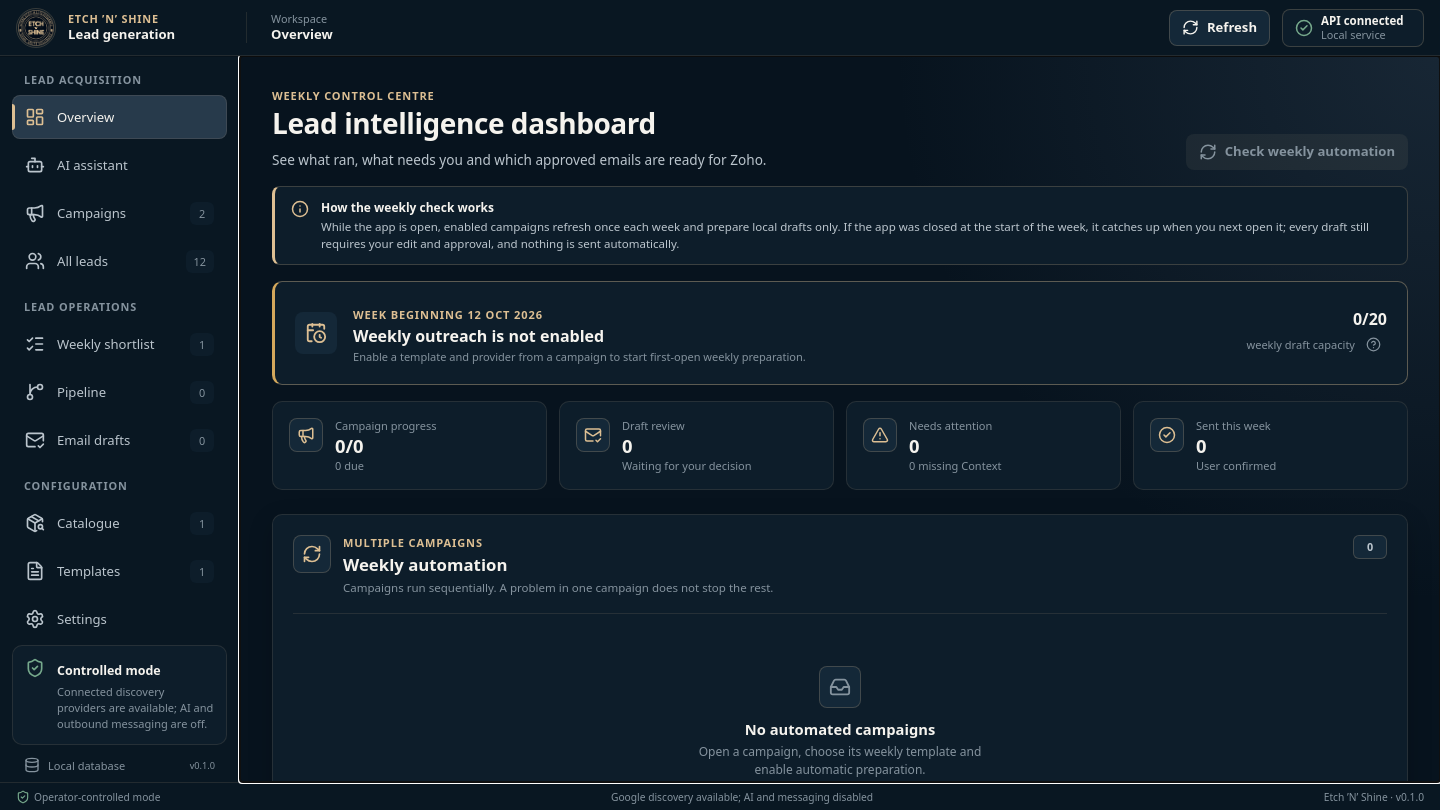
Test case: local operating workbench › filters the lead register by campaign and resets its page
Expected: the text "API connected" is shown, [1321,14,1404,28]
Click the link "All leads 12": (83, 261) [25,250,214,272]
(page scrolled)
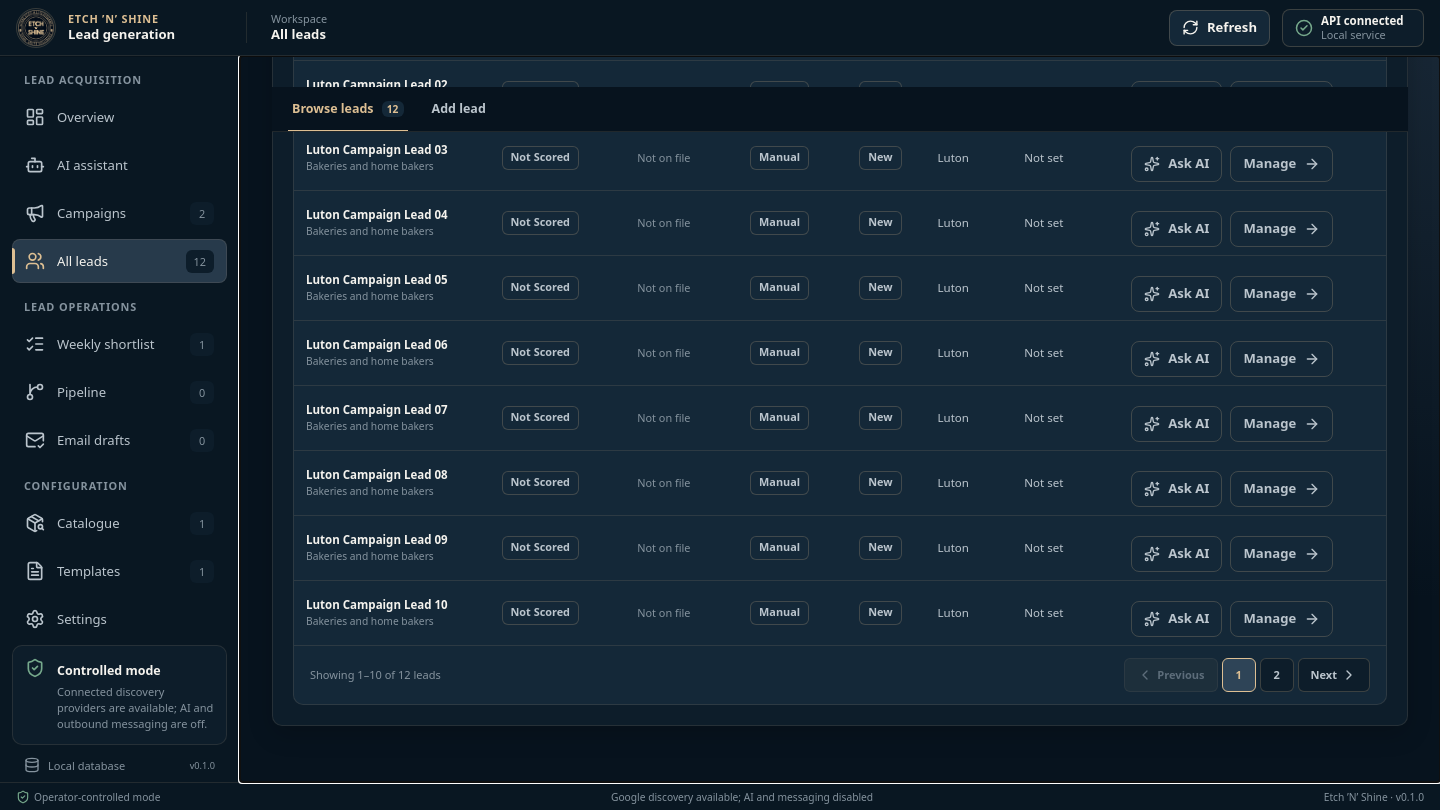
Click the button with aria-label "Next leads page": (1334, 675) [1298,658,1370,692]
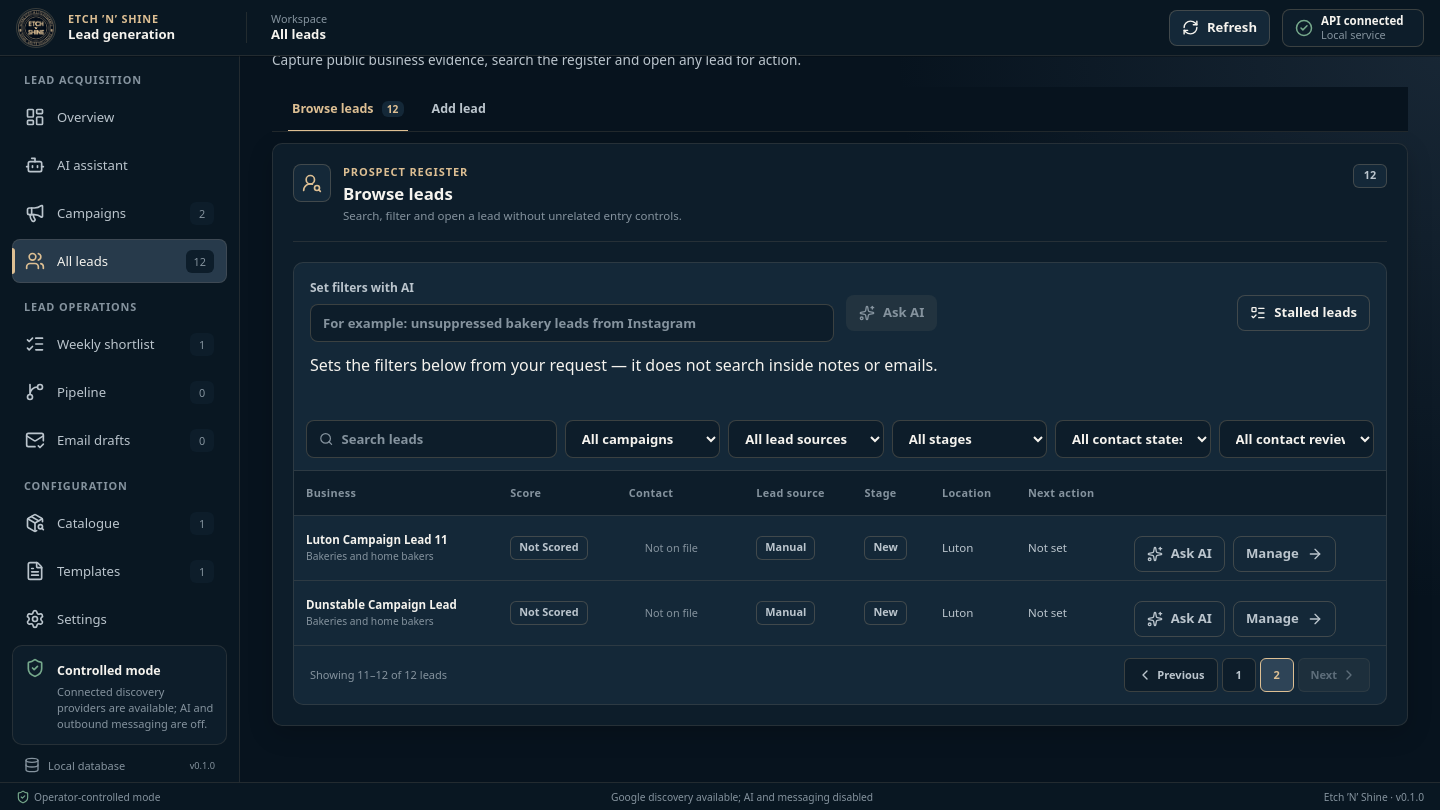
Result: the text "Luton Campaign Lead 11" is shown at [306,532,448,547]
Select "Dunstable Bakery Partnerships" in the 1st dropdown named "Filter by campaign": (642, 439) [565,420,720,458]
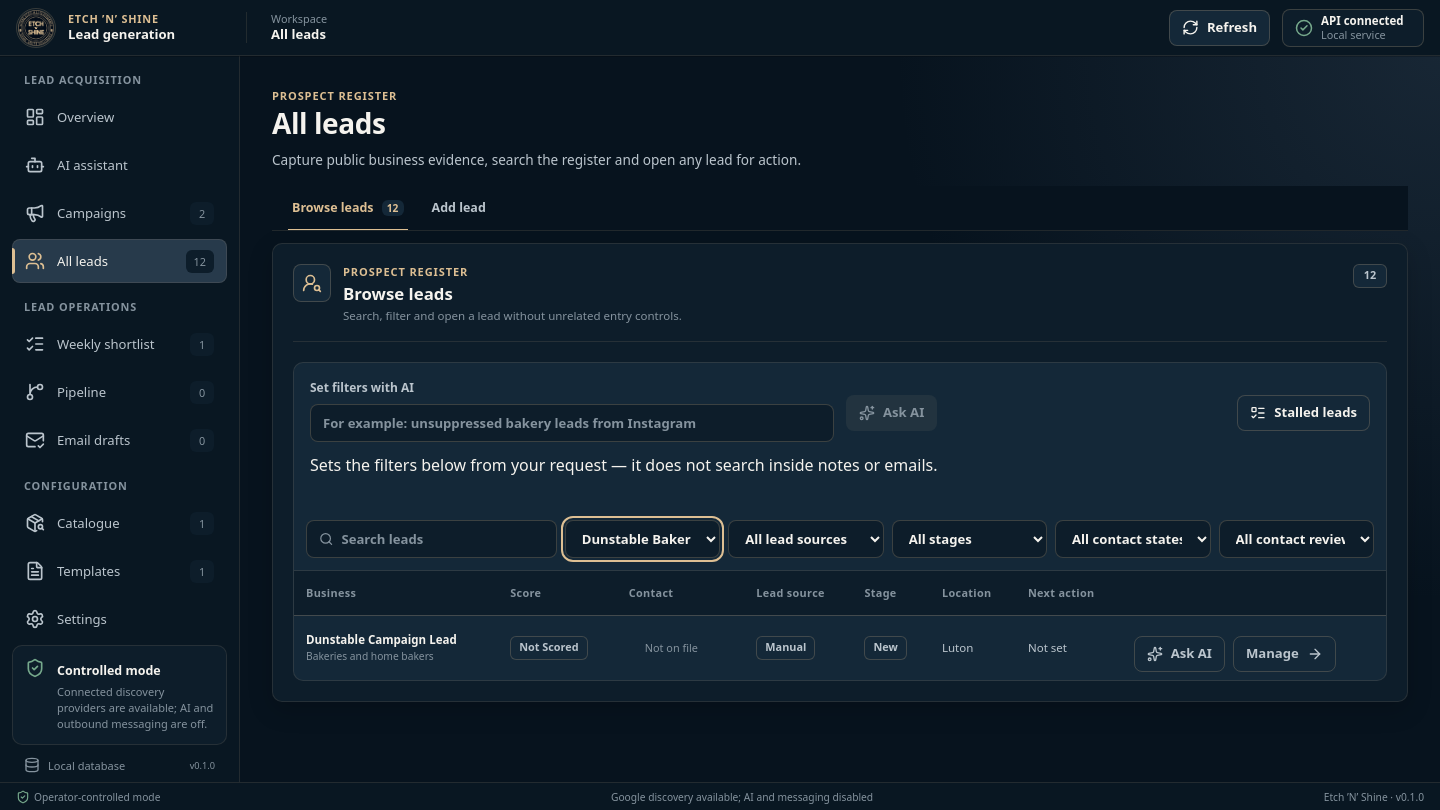
Result: the text "Dunstable Campaign Lead" is shown at [306,632,476,647]
Result: the text "Luton Campaign Lead 11" is gone
Result: the navigation bar "leads pagination" is gone
